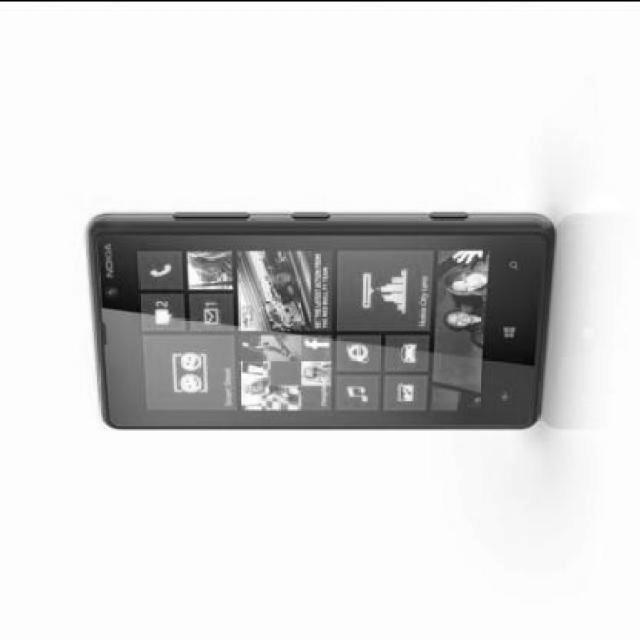fake: (72, 202, 566, 444)
